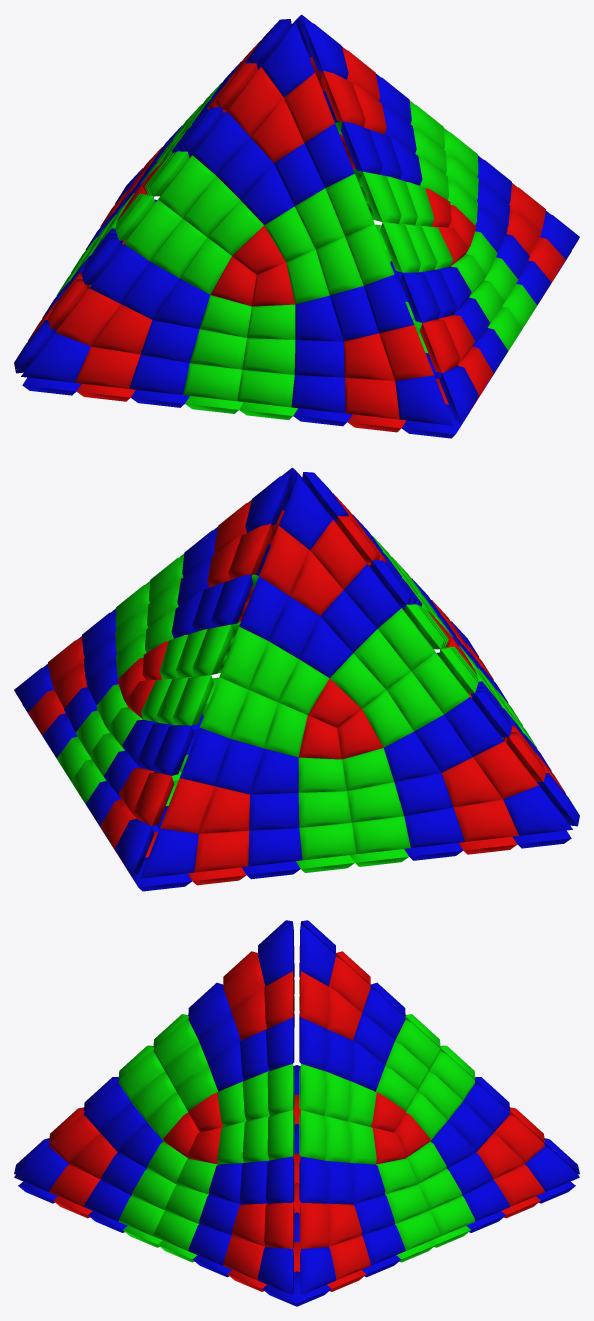
File: tutorialPyramidCombined.fbx
3 renders of one model, top to bottom at view 1: azimuth 30°, elevation 25°; view 2: azimuth 150°, elevation 25°; view 3: azimuth 270°, elevation 25°, orthographic. The views are drawn at different scales.
Visible parts, largest first — view 1: tutorialPyramidCombined; view 2: tutorialPyramidCombined; view 3: tutorialPyramidCombined.
Part boxes in pixels (<box>): tutorialPyramidCombined: <box>14,14,579,438</box>; tutorialPyramidCombined: <box>14,467,579,891</box>; tutorialPyramidCombined: <box>14,920,579,1306</box>.
Size of the model in its own units: 9.14 by 4.8 by 9.14.
